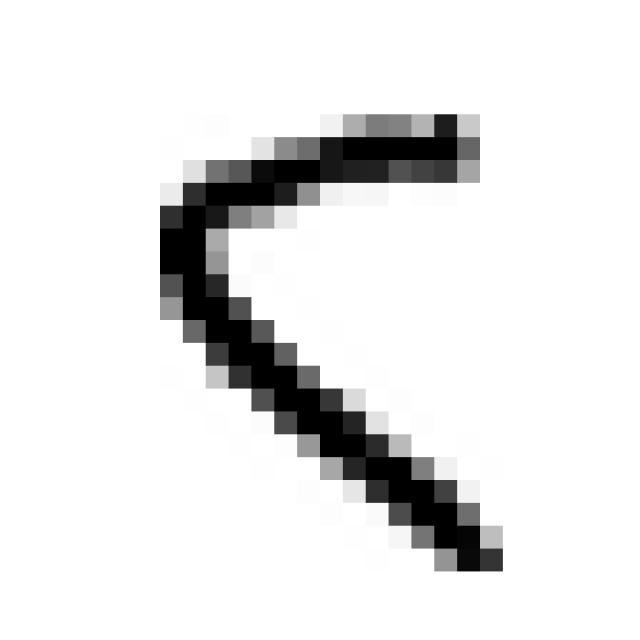2 -two-: (139, 102, 518, 590)
